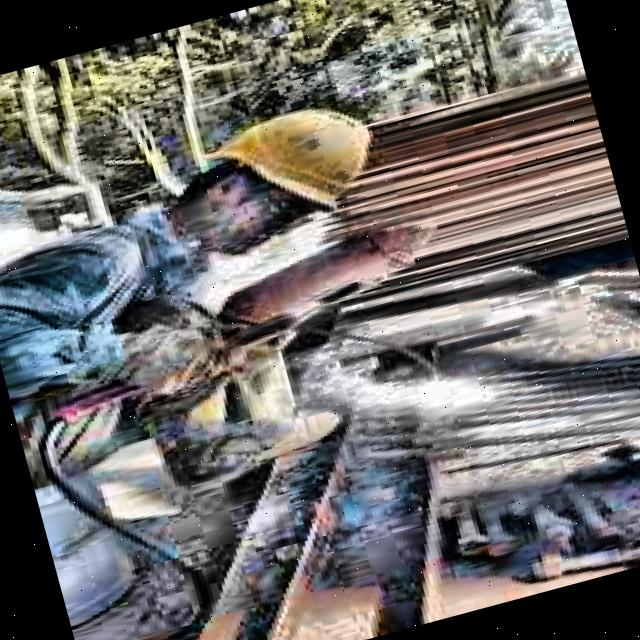helmet: (158, 69, 416, 251)
